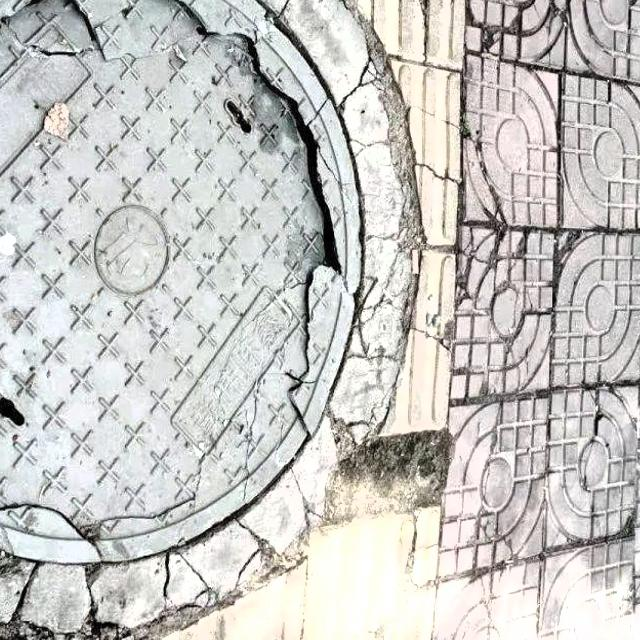circle: (0, 0, 437, 623)
